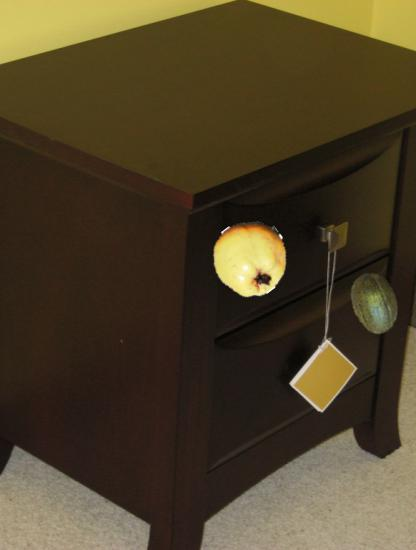Melon: (344, 271, 408, 335)
Quince: (212, 220, 289, 297)
